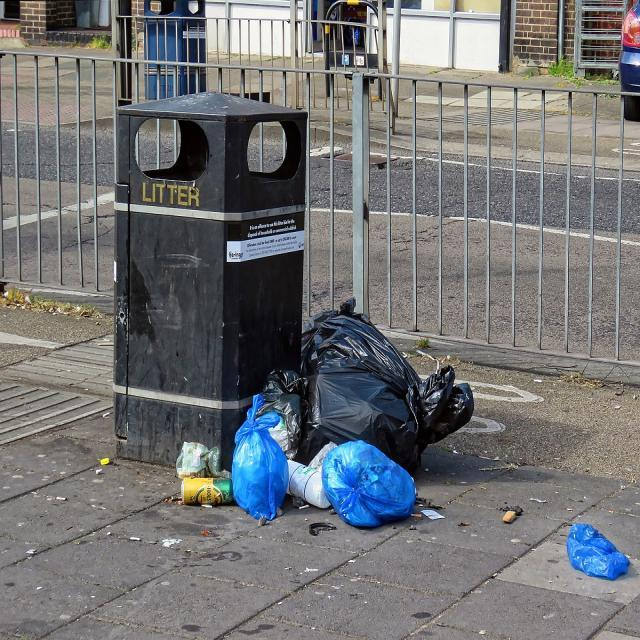garbage: (172, 292, 474, 550), (555, 516, 640, 590)
